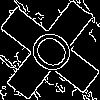O: (25, 25, 85, 84)
